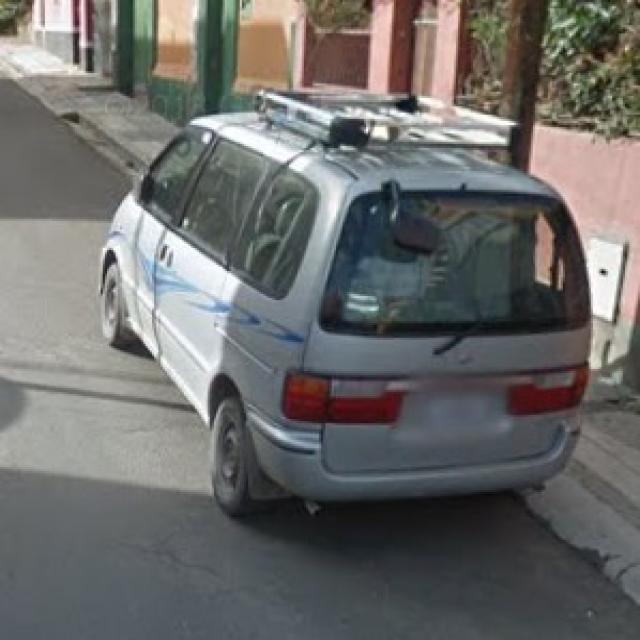Car: (116, 76, 584, 512)
